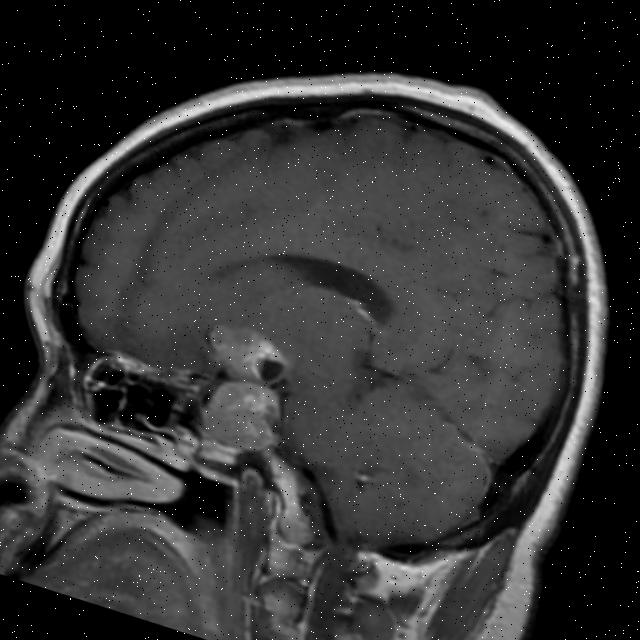Pituitary: (198, 371, 286, 460), (200, 315, 298, 394)
